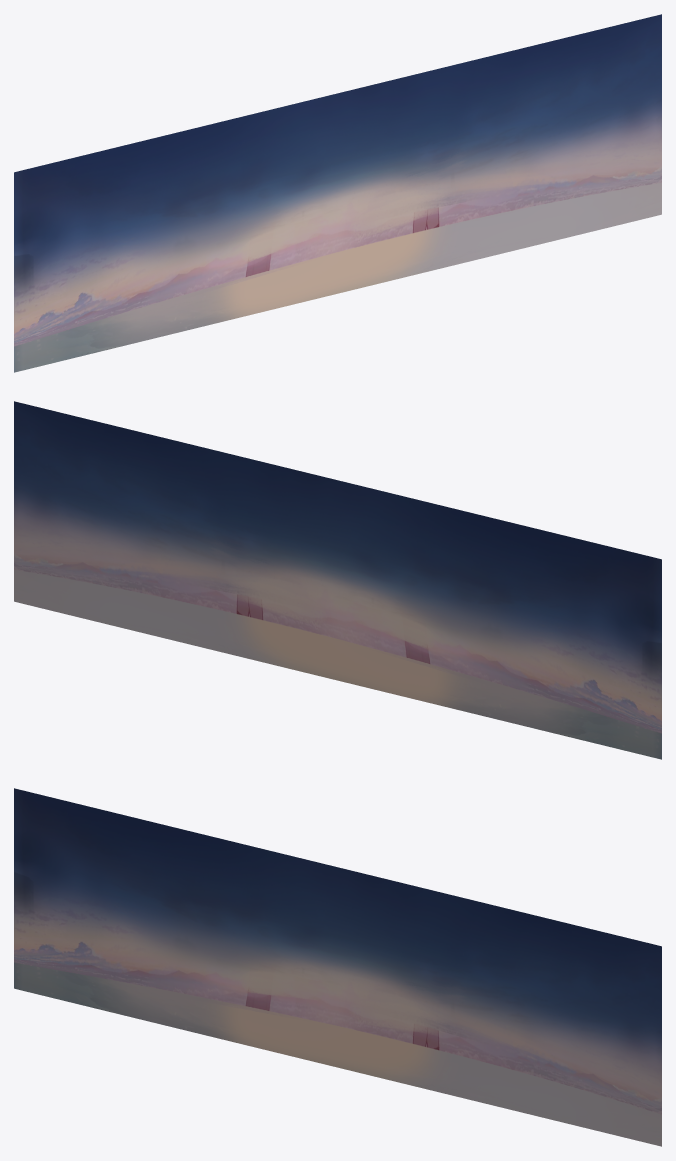
Rendered from SceneBattle03_BG_fbx.FBX.
3 views of the same model, one above another, from view 1: azimuth 30°, elevation 25°; view 2: azimuth 150°, elevation 25°; view 3: azimuth 330°, elevation 25° (orthographic).
Parts seen in each view (by area): view 1: SceneBattle03_BG_fbx; view 2: SceneBattle03_BG_fbx; view 3: SceneBattle03_BG_fbx.
Boxes of the visible parts, x1,y1,x2,y2 form: SceneBattle03_BG_fbx: (14,14,661,372); SceneBattle03_BG_fbx: (14,401,661,759); SceneBattle03_BG_fbx: (14,788,661,1146).
Size of the model in its own units: 20.48 by 6.05 by 4.5e-06.
Materials: 1 (1 with a texture image).
